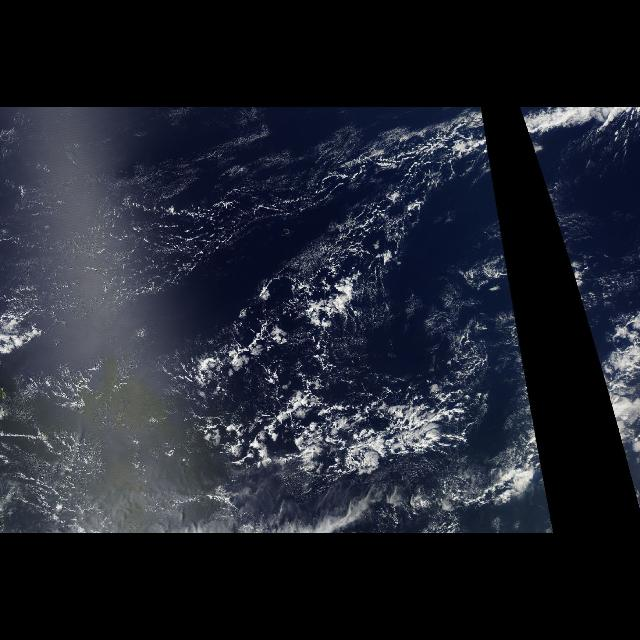Gravel: (34, 135, 536, 533)
Sugar: (4, 351, 138, 527), (328, 131, 498, 259), (75, 182, 279, 284)
